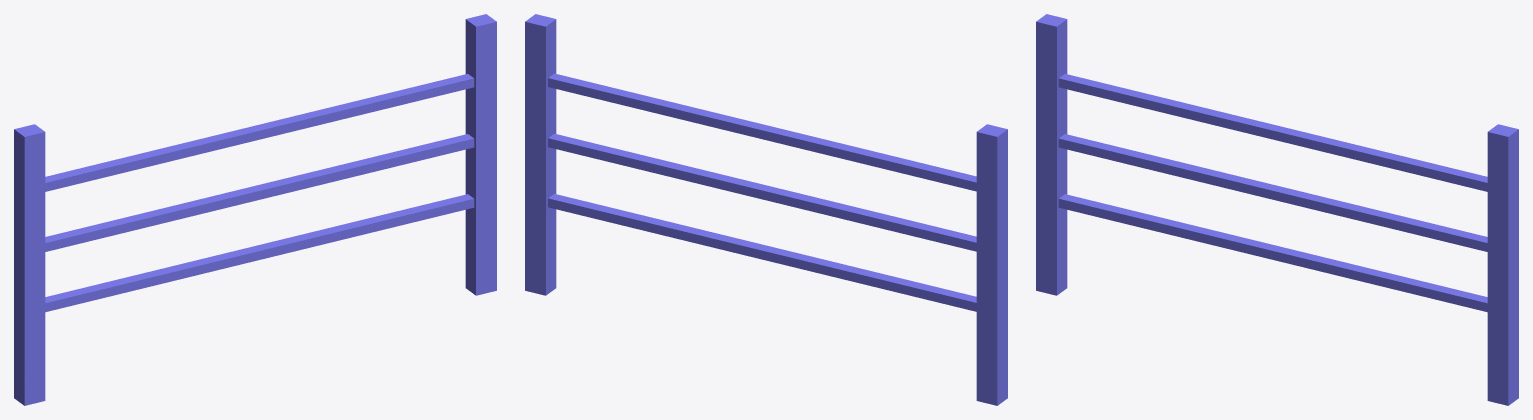
The model's file is SimpleBarriereClean.fbx.
3 renders of one model, left to right at view 1: azimuth 30°, elevation 25°; view 2: azimuth 150°, elevation 25°; view 3: azimuth 330°, elevation 25°, orthographic.
Visible parts, largest first — view 1: SimpleBarriereClean; view 2: SimpleBarriereClean; view 3: SimpleBarriereClean.
Boxes of the visible parts, <box> form: SimpleBarriereClean: <box>14,14,496,405</box>; SimpleBarriereClean: <box>525,14,1007,405</box>; SimpleBarriereClean: <box>1036,14,1518,405</box>.
Bounding box in the file's own units: 1654 × 900 × 64.
Materials: 1 (1 with a texture image).
